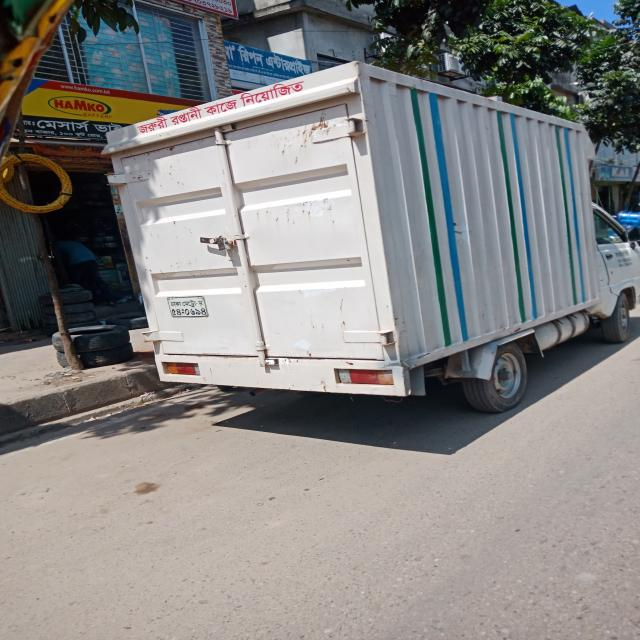truck: (101, 61, 640, 413)
